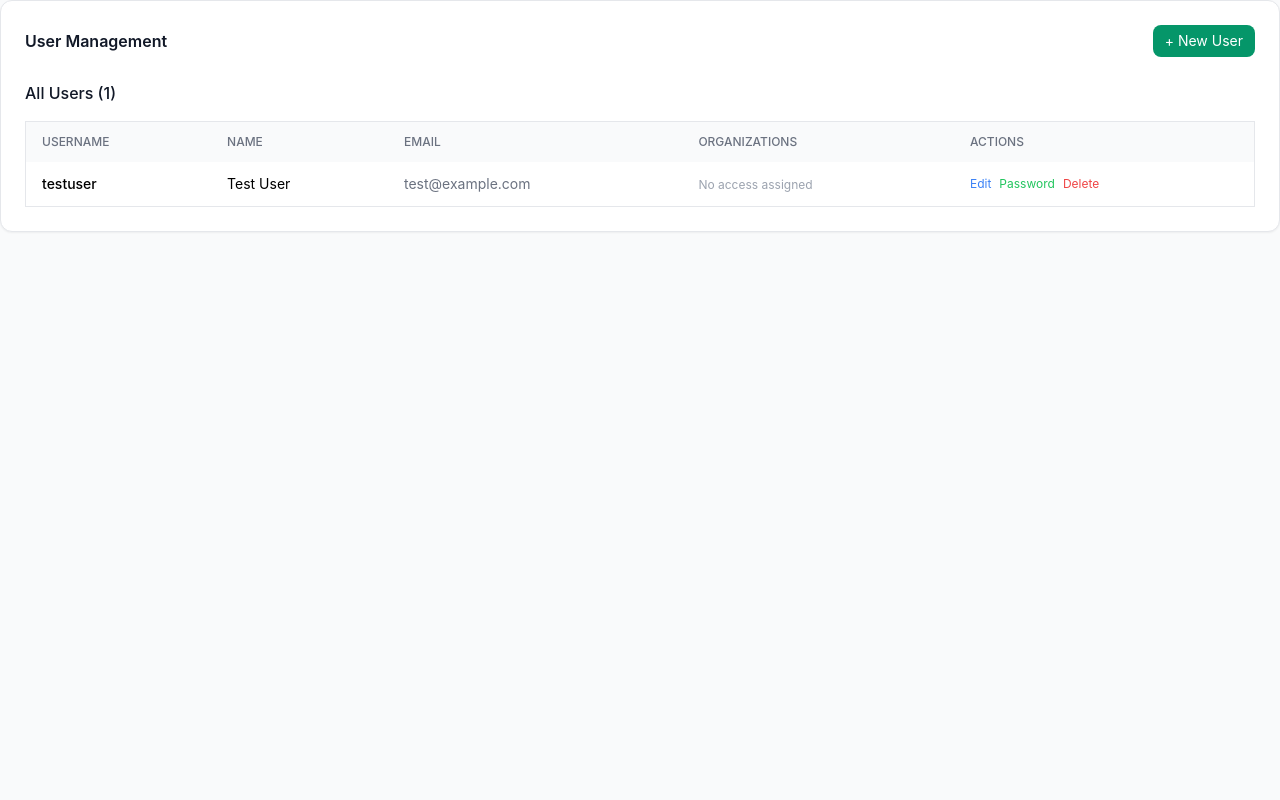
Test case: UnifiedUserManager - Extended Features › User Editing › opens edit modal when Edit button is clicked
Note: Click Edit button
Click the button "Edit" at (981,184), box [970,176,991,192]
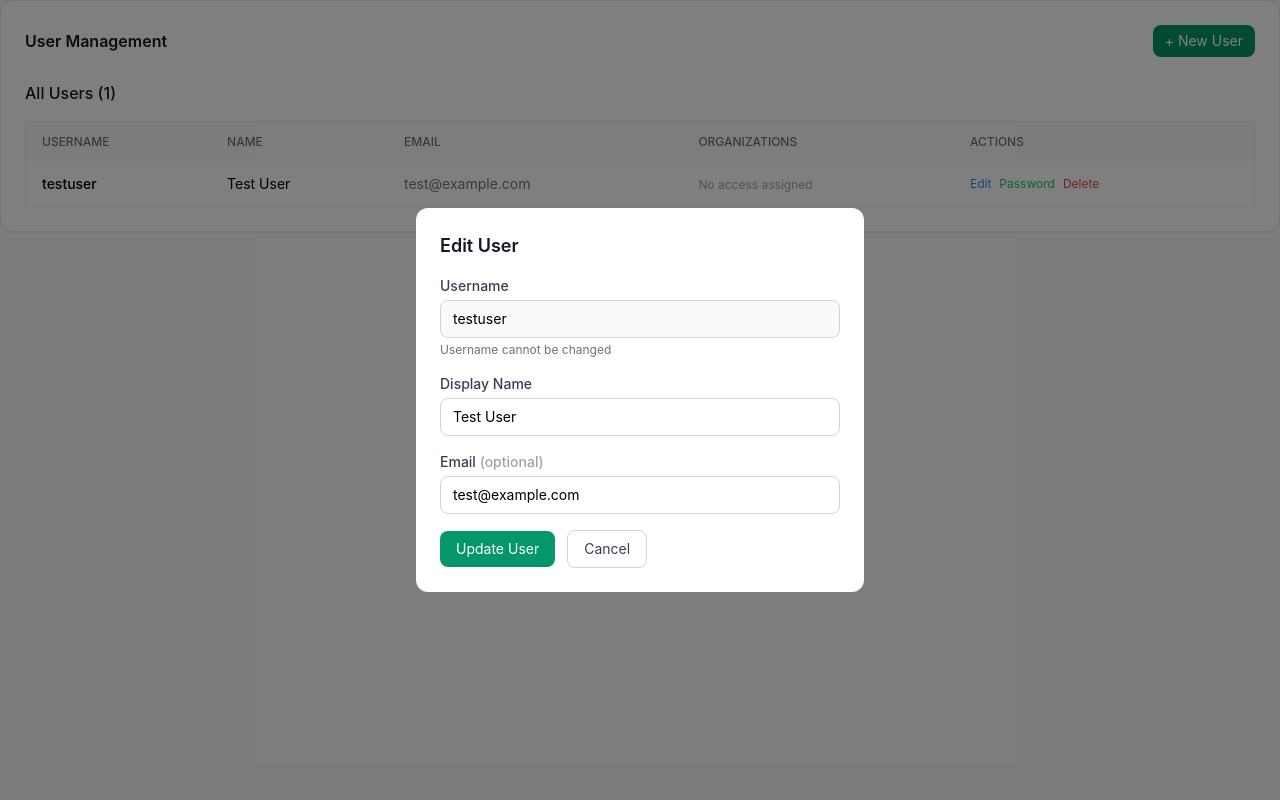
Now the heading "Edit User" is shown, box [440,235,519,256]
Now the 1st field showing "testuser" is shown, box [440,300,840,338]
Now the field showing "Test User" below "Display Name" is shown, box [440,398,840,436]
